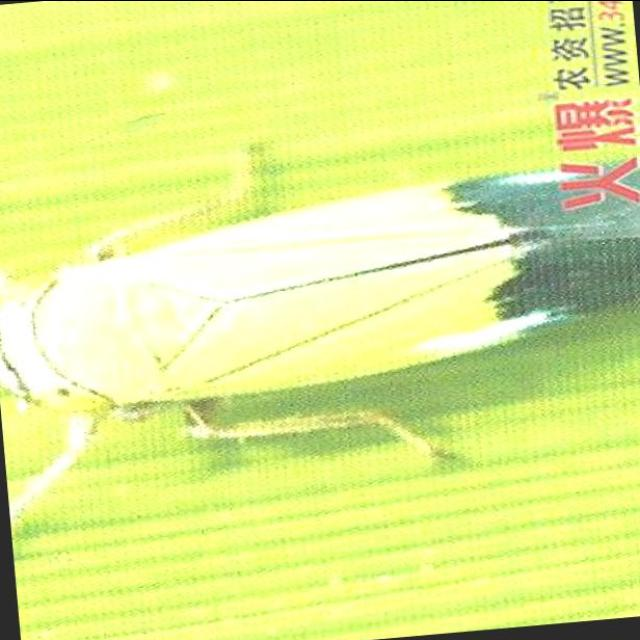green leaf hopper: (0, 184, 552, 527)
